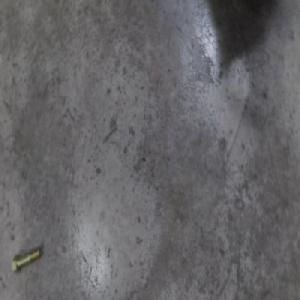Bolt: (14, 243, 43, 271)
